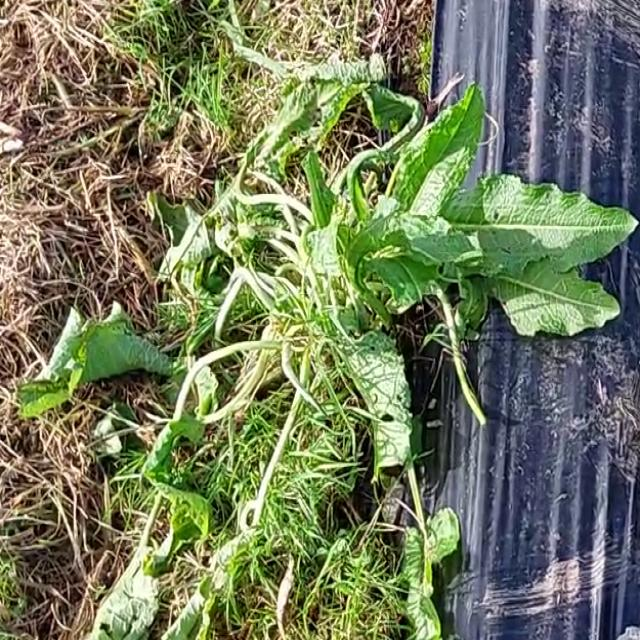organic waste: (25, 42, 640, 637)
